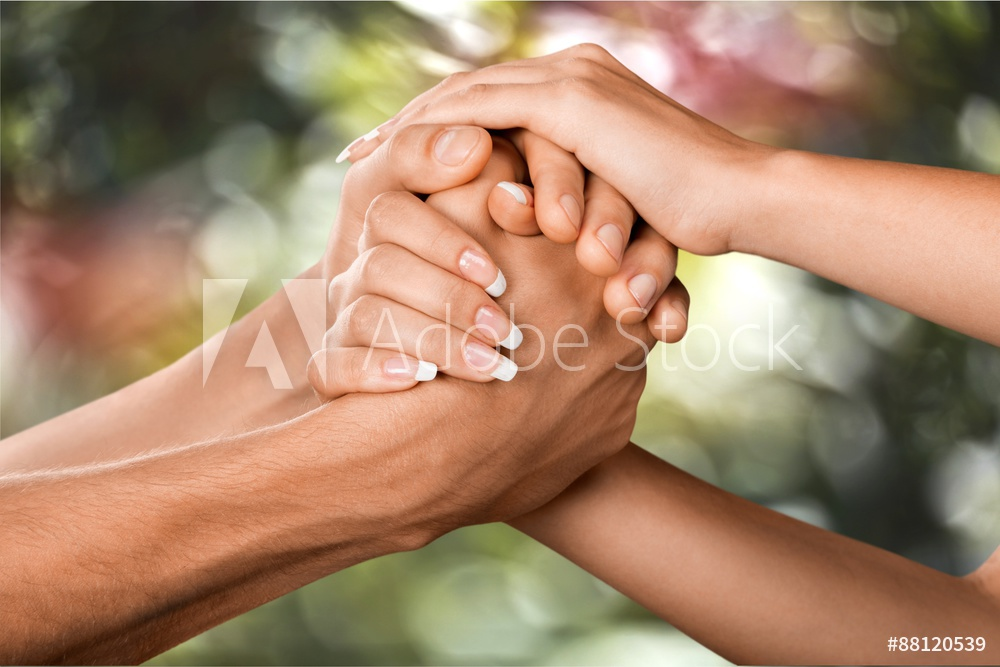finger: (358, 248, 525, 360), (335, 294, 522, 389), (368, 189, 520, 297), (384, 85, 541, 140), (617, 236, 686, 335), (324, 341, 442, 395), (525, 139, 581, 239), (584, 181, 629, 267), (654, 288, 699, 345)
